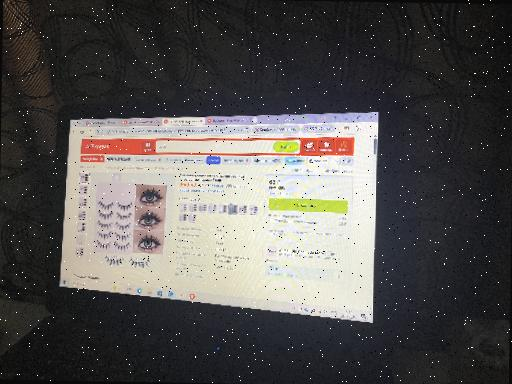aliexpress: (78, 132, 368, 288)
